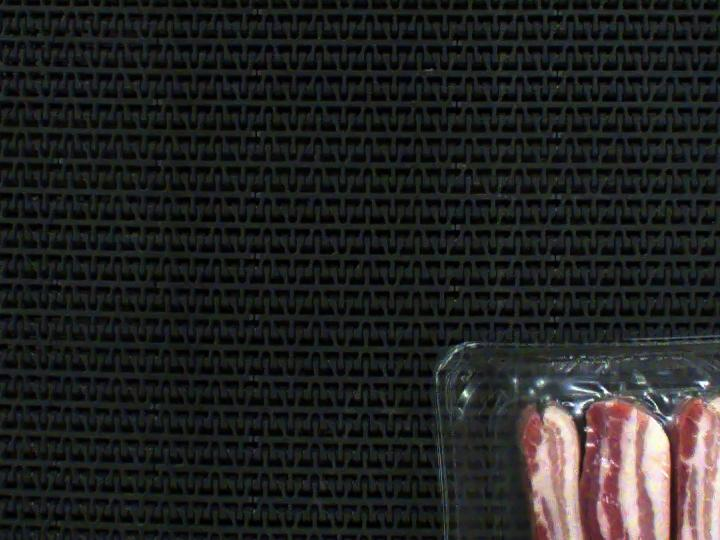unsealed: (494, 350, 720, 540)
